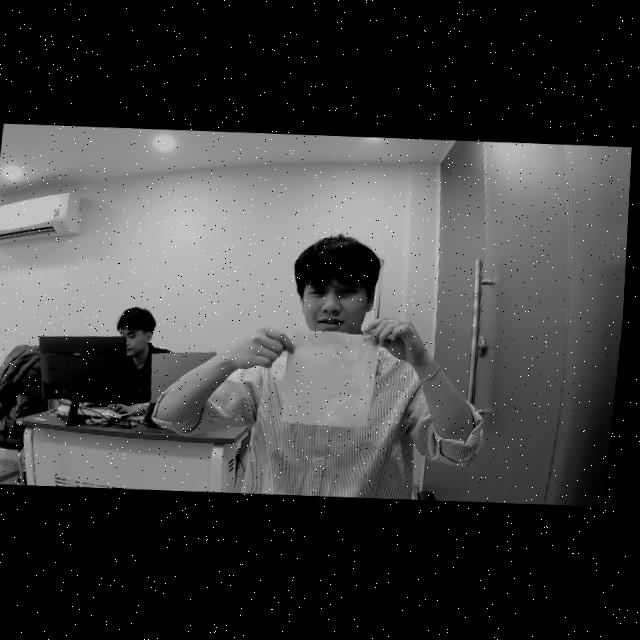face: (290, 253, 397, 340), (110, 305, 172, 367)
